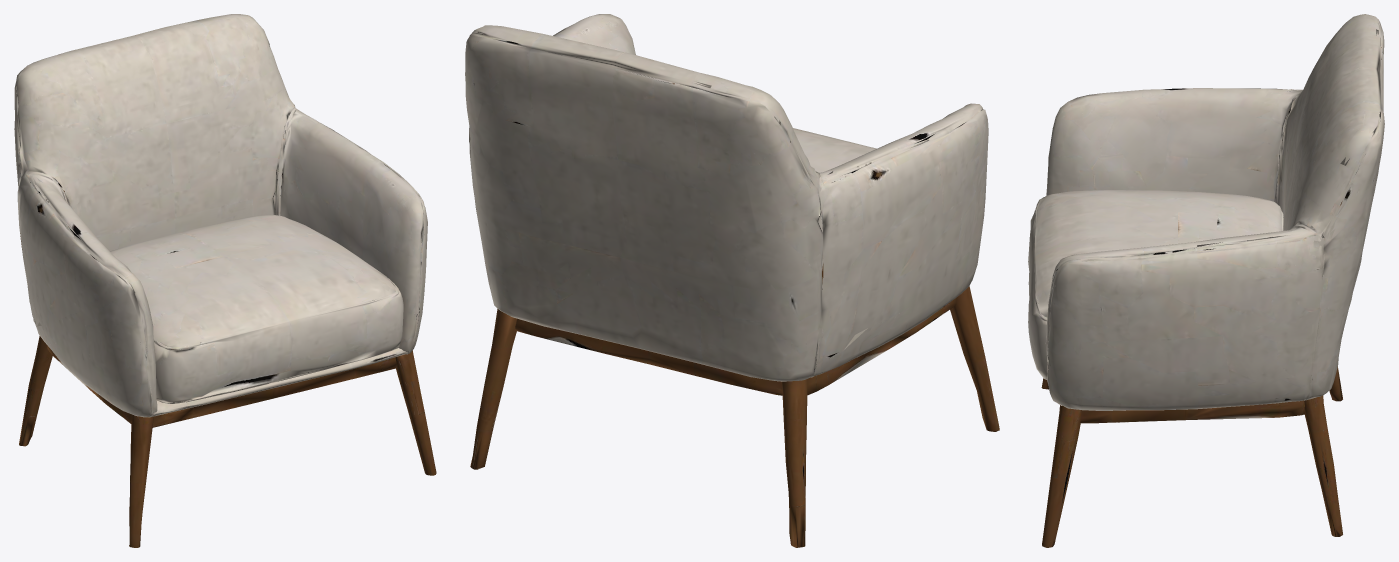
File: mobile.glb
3 renders of one model, left to right at view 1: azimuth 30°, elevation 25°; view 2: azimuth 150°, elevation 25°; view 3: azimuth 270°, elevation 25°, orthographic. The views are drawn at different scales.
Visible parts, largest first — view 1: armchair; view 2: armchair; view 3: armchair.
Part boxes in pixels (x1,y1,x2,y2): armchair: (14,14,436,547); armchair: (465,14,999,547); armchair: (1028,14,1384,547).
Size of the model in its own units: 0.8002 by 0.8542 by 0.6909.
1 material, 1 textured.
